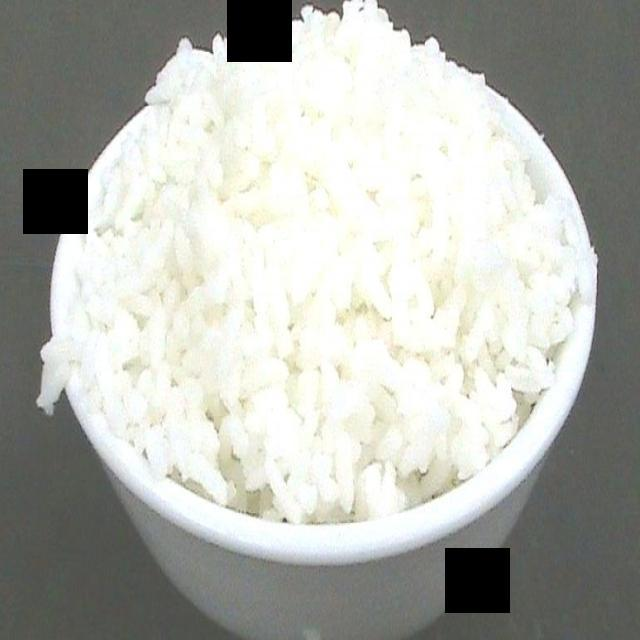rice: (66, 0, 590, 523)
